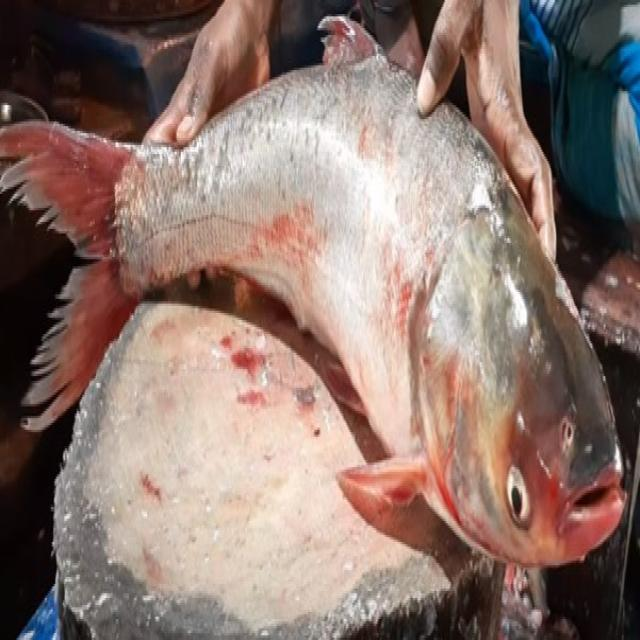Big-Head-Carp: (4, 40, 628, 593)
